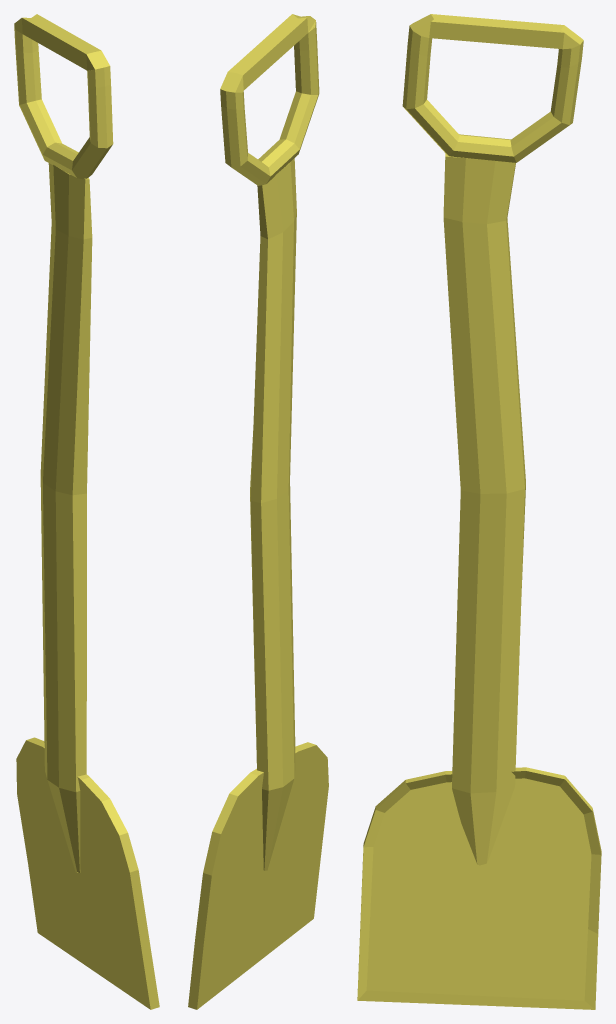
File: badile1.glb
The picture shows the model from 3 angles, left to right: view 1: azimuth 30°, elevation 25°; view 2: azimuth 150°, elevation 25°; view 3: azimuth 270°, elevation 25°; orthographic projection. The views are drawn at different scales.
Parts seen in each view (by area): view 1: Circle; view 2: Circle; view 3: Circle.
Boxes of the visible parts, bbox=[...] form: Circle: bbox=[14, 14, 159, 1009]; Circle: bbox=[188, 14, 328, 1009]; Circle: bbox=[357, 14, 601, 1009].
Size of the model in its own units: 0.2709 by 5.15 by 1.17.
